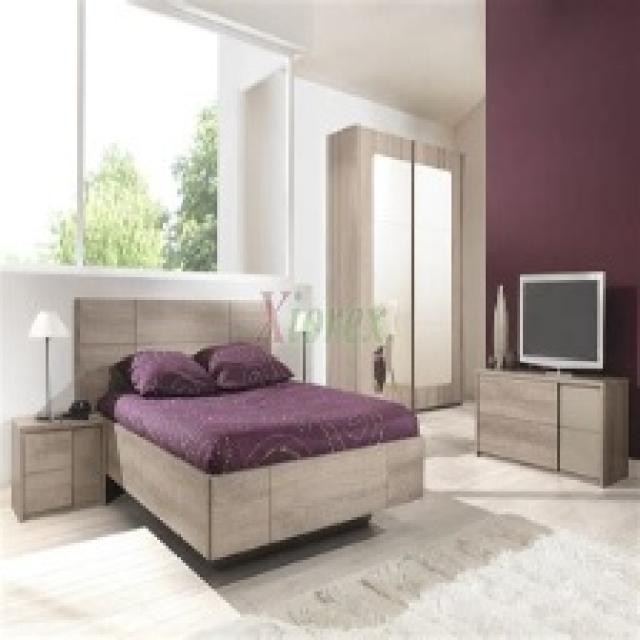Bed: (71, 291, 423, 566)
